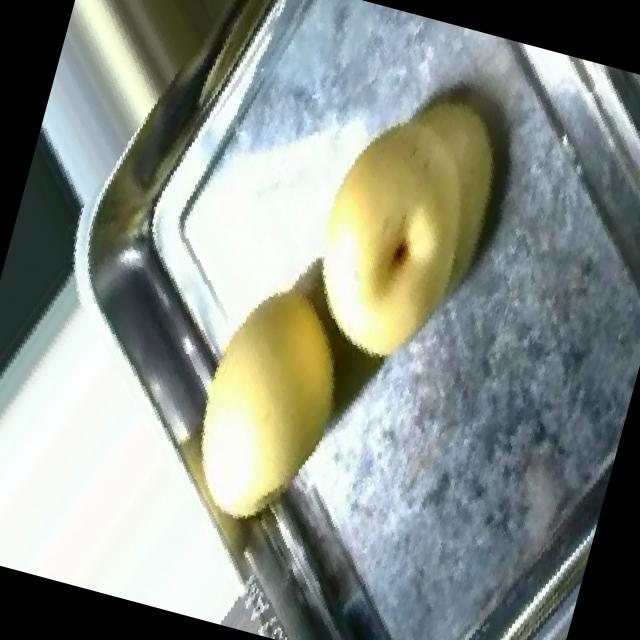Fruit: (258, 38, 572, 401), (142, 252, 384, 560)
